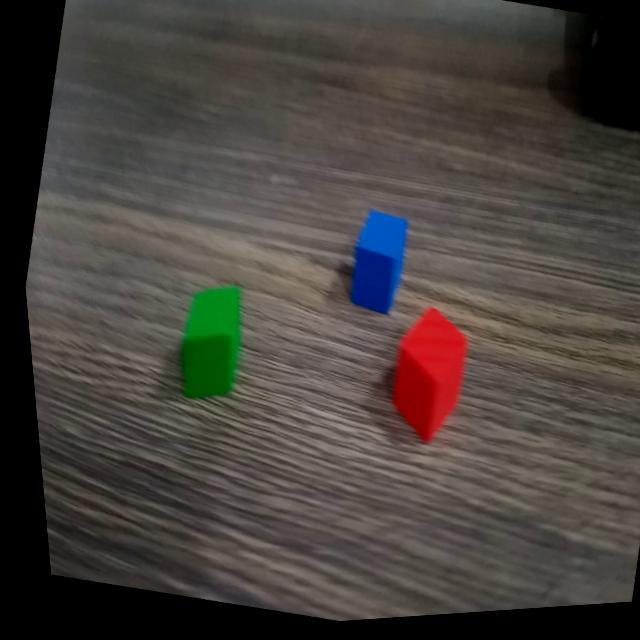cube: (363, 301, 479, 461), (154, 272, 255, 418), (330, 207, 419, 330)
